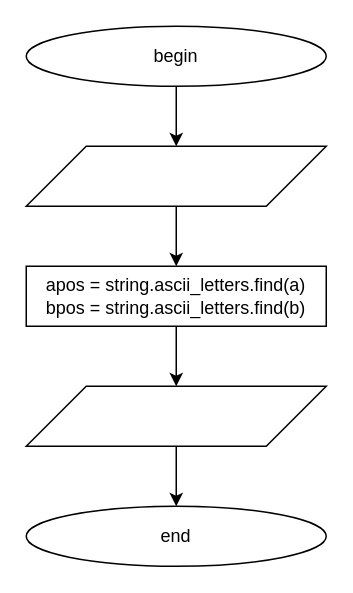
Image size: 353x593. Some labels were removed from this diagram. The centre of each missing label's shape, as x and y in pixels:
input: a,b: [175,175]
output: b - a - 1: [175,415]
